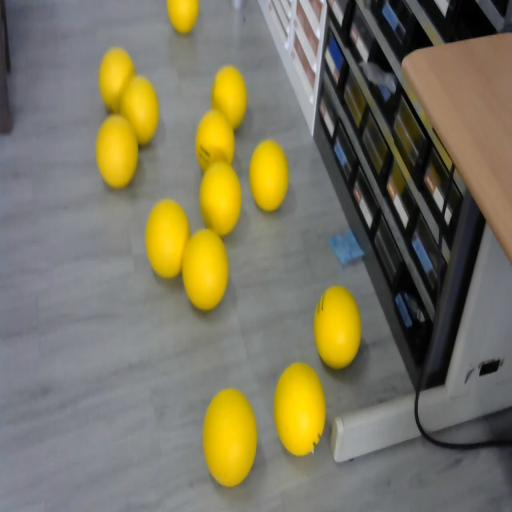FUEL: (202, 386, 258, 485), (273, 360, 326, 456), (313, 283, 362, 368), (180, 227, 230, 310), (144, 198, 190, 279), (199, 162, 242, 236), (96, 114, 138, 188), (249, 138, 290, 210), (99, 47, 136, 112), (212, 65, 248, 129), (166, 0, 199, 33)
